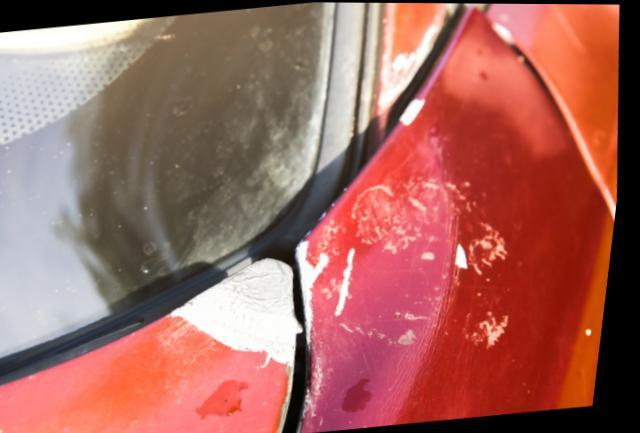scratch: (299, 152, 540, 363), (172, 257, 306, 367)
